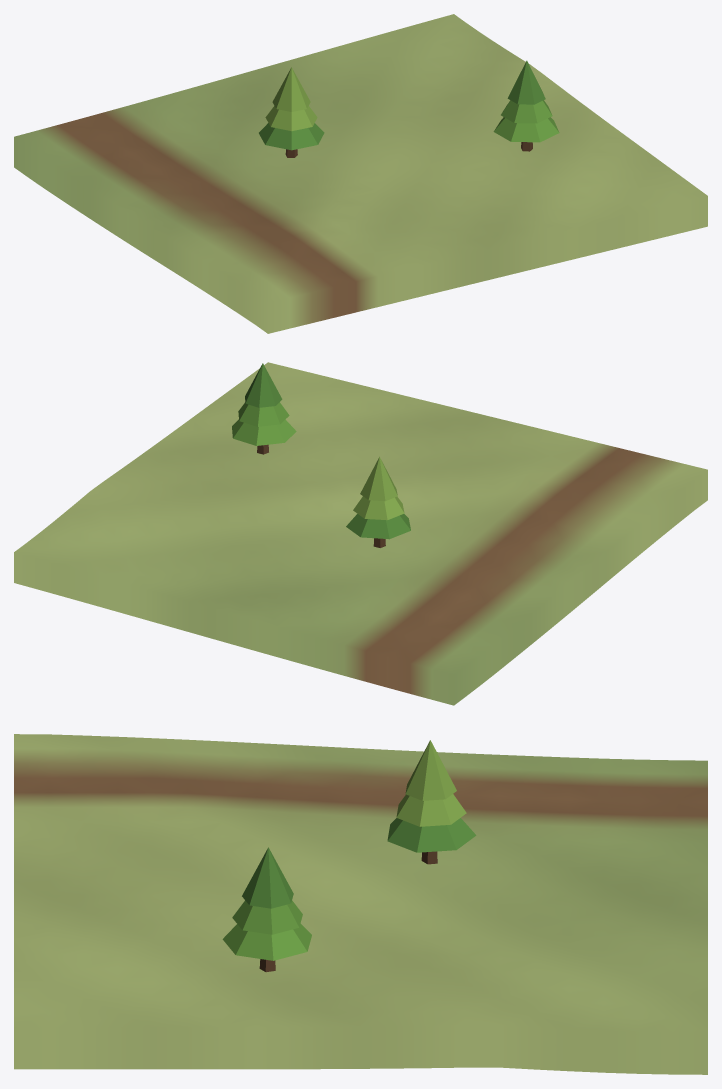
3 renders of one model, top to bottom at view 1: azimuth 30°, elevation 25°; view 2: azimuth 150°, elevation 25°; view 3: azimuth 270°, elevation 25°, orthographic. The views are drawn at different scales.
Visible parts, largest first — view 1: terrain, scenery; view 2: terrain, scenery; view 3: terrain, scenery.
Boxes of the visible parts, left/top/right/bottom form: terrain: left=14, top=14, right=707, bottom=333; scenery: left=259, top=60, right=559, bottom=157; terrain: left=14, top=362, right=707, bottom=705; scenery: left=232, top=363, right=410, bottom=547; terrain: left=14, top=734, right=707, bottom=1074; scenery: left=222, top=740, right=476, bottom=972.
Size of the model in its own units: 30 by 9.07 by 30.
